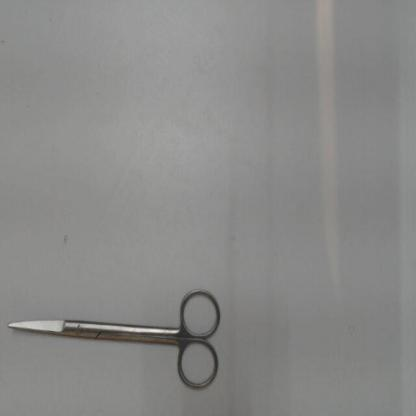Curved Mayo Scissors: (5, 280, 226, 395)
